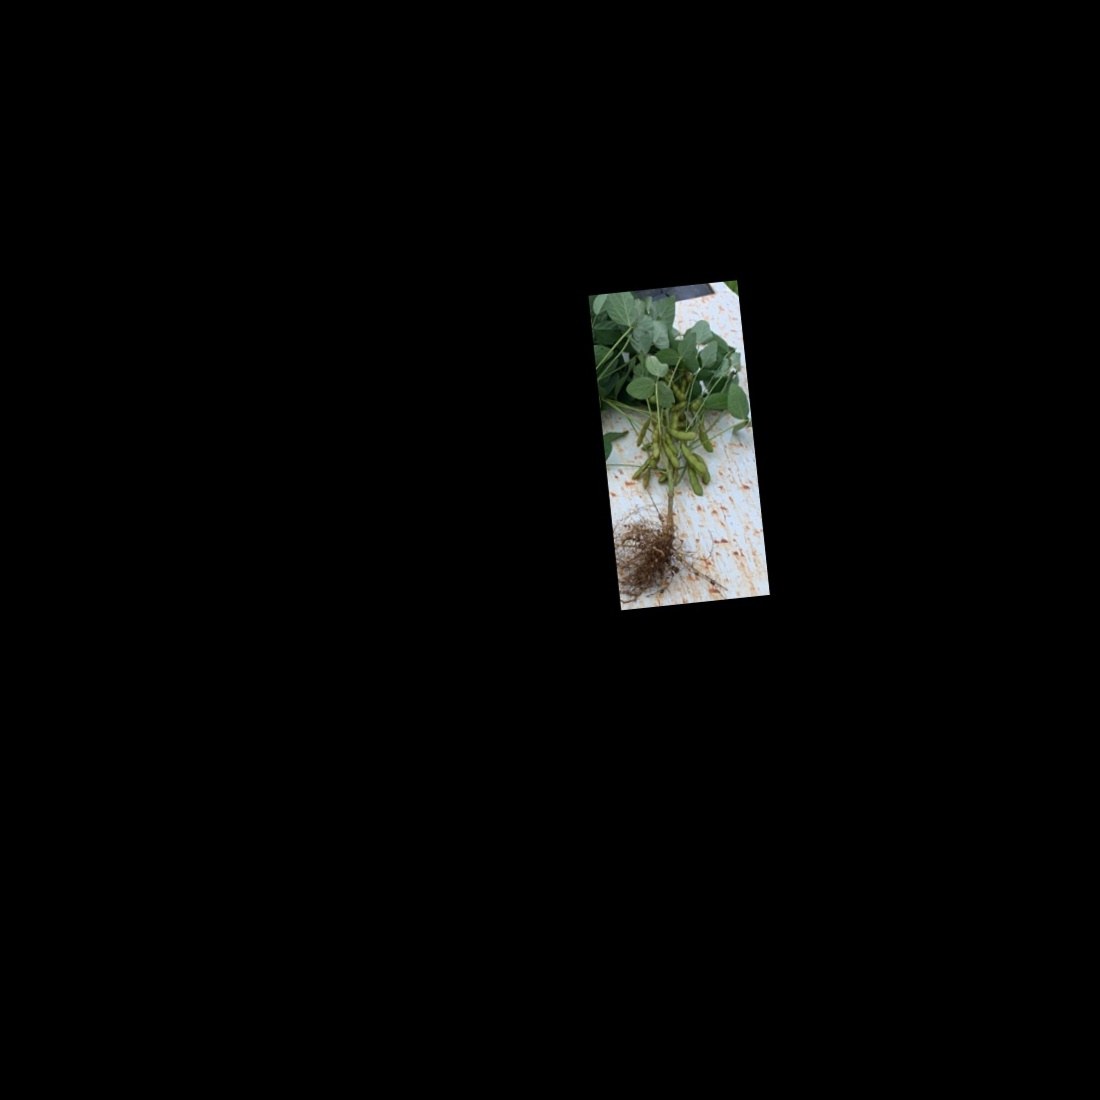pod: (677, 438, 707, 478), (632, 413, 655, 447), (627, 454, 655, 482), (661, 424, 699, 443), (685, 462, 705, 497), (664, 440, 681, 472)
soy: (593, 295, 764, 600)
